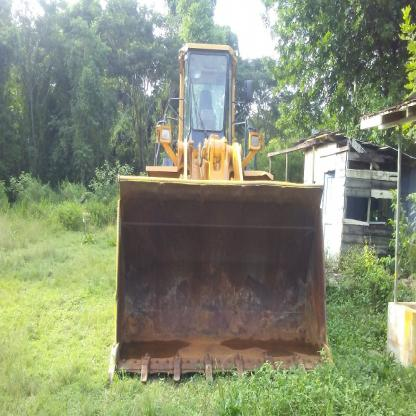bull_dozer/loader/grader: (109, 31, 338, 392)
